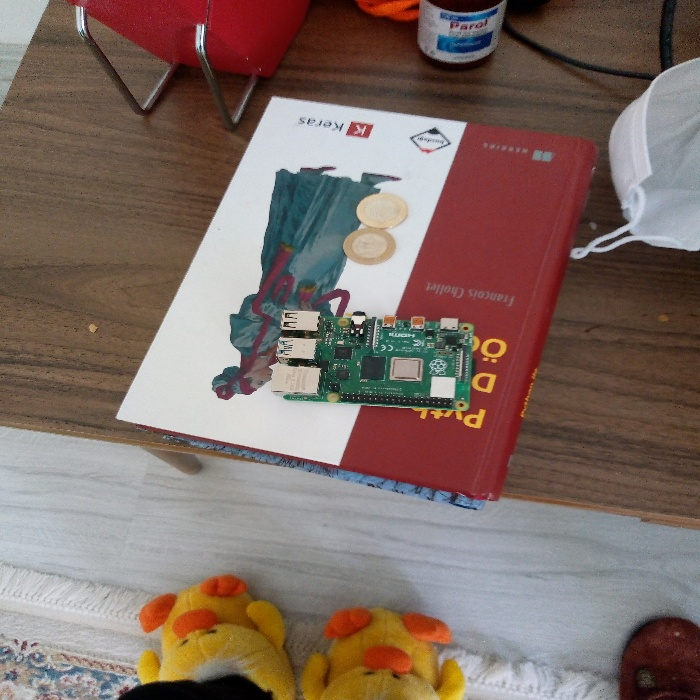raspberry: (276, 297, 483, 413)
